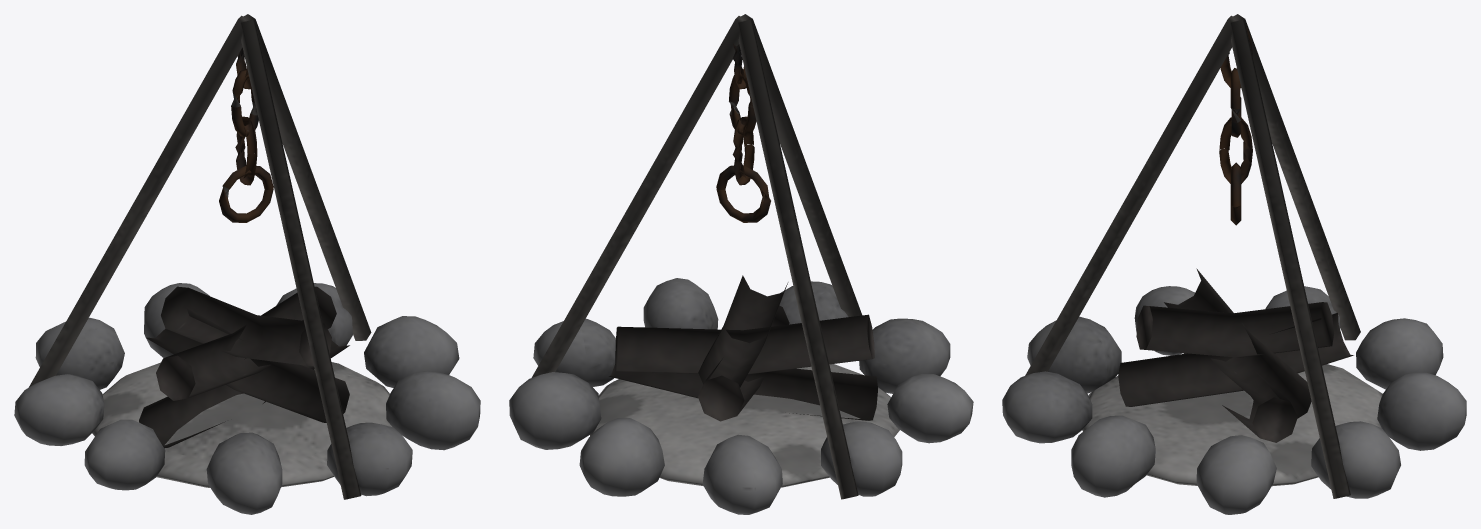
The model's file is dead_campfire.obj.
The picture shows the model from 3 angles, left to right: view 1: azimuth 30°, elevation 25°; view 2: azimuth 150°, elevation 25°; view 3: azimuth 270°, elevation 25°; orthographic projection.
Parts seen in each view (by area): view 1: part0, part3, part1, part2, part4; view 2: part0, part3, part1, part2, part4; view 3: part0, part3, part1, part2, part4.
Boxes of the visible parts, <box> form: part0: <box>14,283,480,514</box>; part3: <box>29,14,371,499</box>; part1: <box>139,286,349,448</box>; part2: <box>92,362,392,487</box>; part4: <box>219,47,273,222</box>; part0: <box>509,278,973,514</box>; part3: <box>531,14,862,499</box>; part1: <box>609,275,877,421</box>; part2: <box>590,364,899,487</box>; part4: <box>716,44,770,222</box>; part0: <box>1002,286,1466,514</box>; part3: <box>1025,14,1360,498</box>; part1: <box>1118,268,1353,442</box>; part2: <box>1082,364,1382,486</box>; part4: <box>1219,27,1252,225</box>.
Size of the model in its own units: 0.8676 by 0.8778 by 0.8776.
